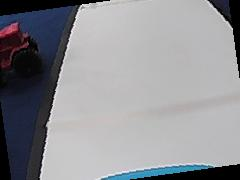Tracktor: (0, 19, 40, 78)
